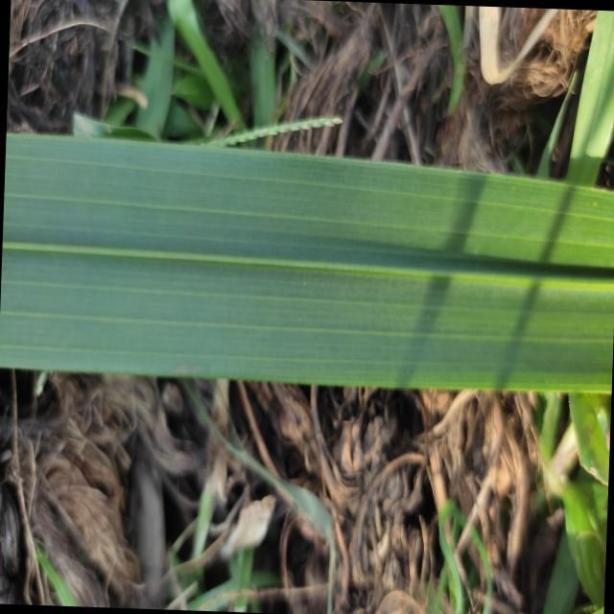Healthy: (5, 129, 614, 395)
